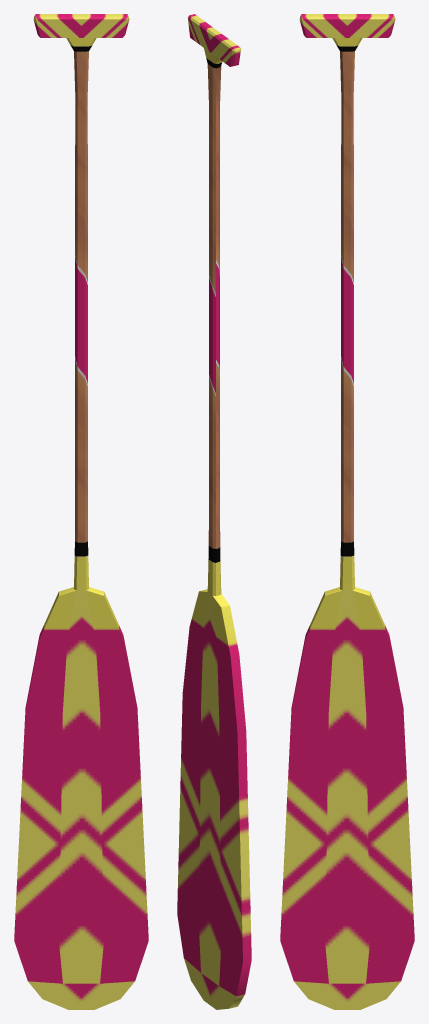
The model's file is oar-2.fbx.
The picture shows the model from 3 angles, left to right: view 1: azimuth 90°, elevation 25°; view 2: azimuth 210°, elevation 25°; view 3: azimuth 270°, elevation 25°; orthographic projection.
Parts seen in each view (by area): view 1: pCube7; view 2: pCube7; view 3: pCube7.
Part boxes in pixels (bbox=[...]): pCube7: bbox=[14, 14, 148, 1009]; pCube7: bbox=[177, 14, 251, 1009]; pCube7: bbox=[280, 14, 414, 1009].
Bounding box in the file's own units: 0.4155 × 44.19 × 5.42.
Materials: 1 (1 with a texture image).
